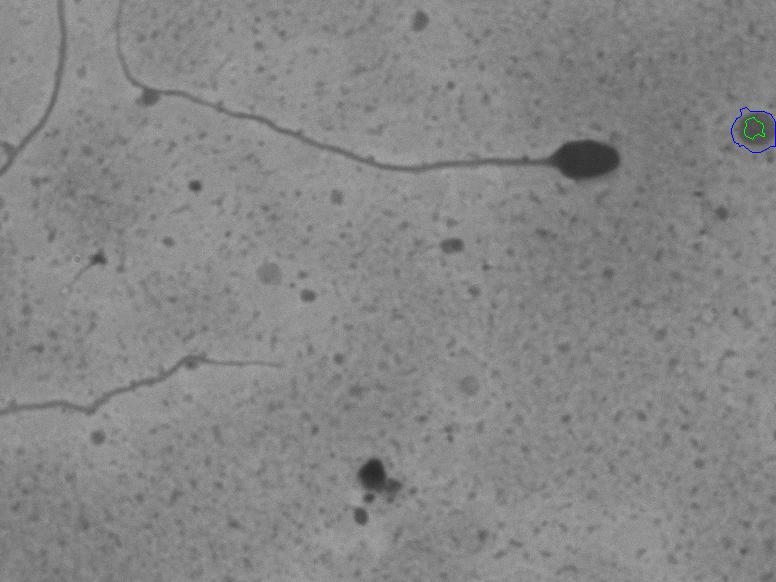Abnormal: (113, 15, 646, 216)
